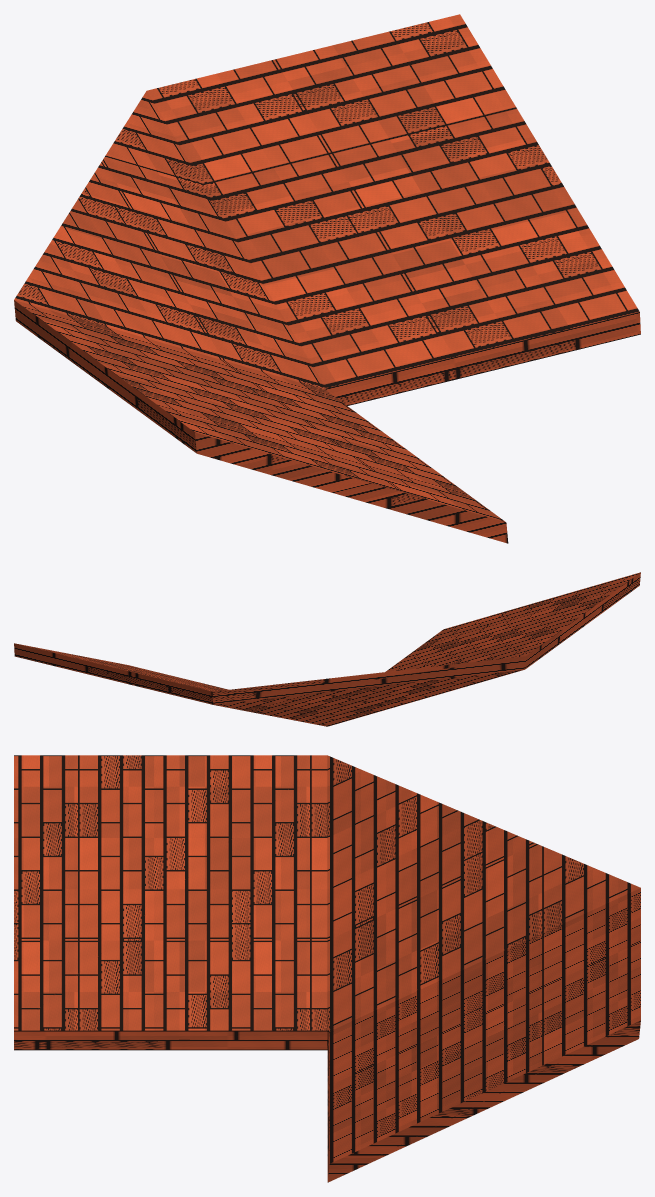
File: theodosian red roof corner.glb
The picture shows the model from 3 angles, top to bottom: view 1: azimuth 30°, elevation 25°; view 2: azimuth 150°, elevation 25°; view 3: azimuth 270°, elevation 25°; orthographic projection. The views are drawn at different scales.
Visible parts, largest first — view 1: Theodosian_red_corner; view 2: Theodosian_red_corner; view 3: Theodosian_red_corner.
Part boxes in pixels (box(x1,y1,x2,y2)): Theodosian_red_corner: box(14, 14, 640, 543); Theodosian_red_corner: box(14, 572, 640, 726); Theodosian_red_corner: box(14, 755, 640, 1182).
Size of the model in its own units: 2 by 0.5726 by 2.
1 material, 1 textured.
